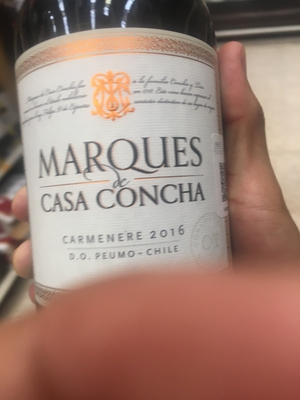marques de casa concha carmenere: (12, 8, 235, 300)
